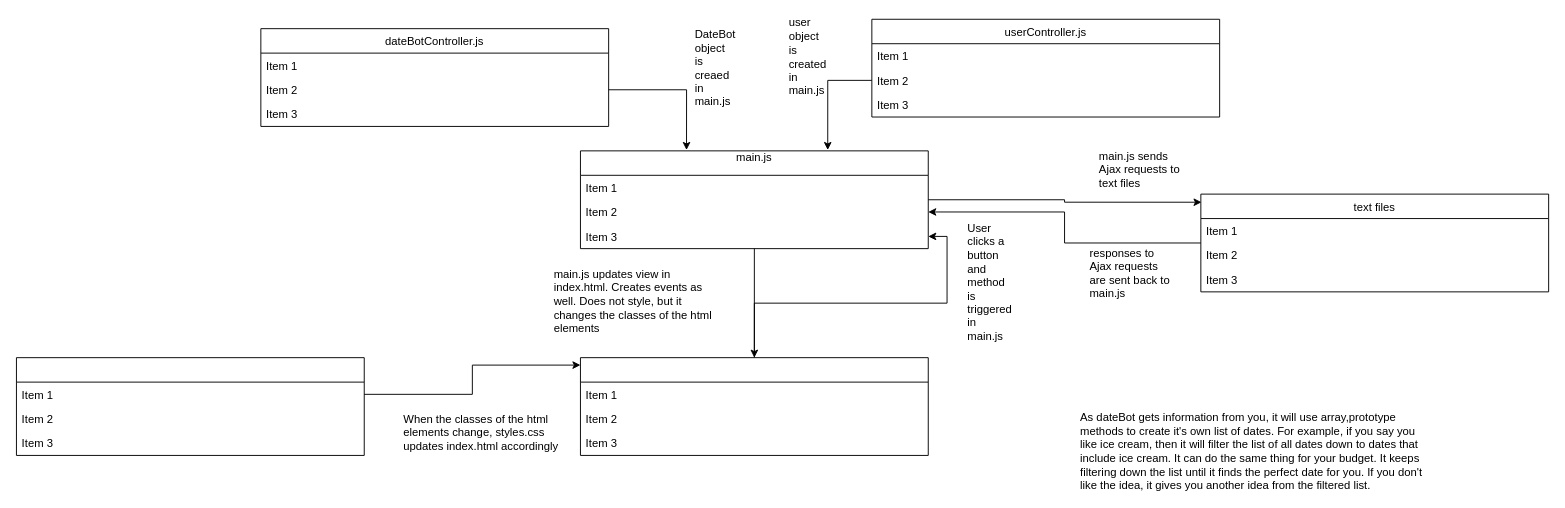
Image size: 1565x508. Some labels were removed from this diagram. Each missing label, with the box of its shape:
index.html: (580, 357, 928, 455)
styles.css: (16, 357, 364, 455)
